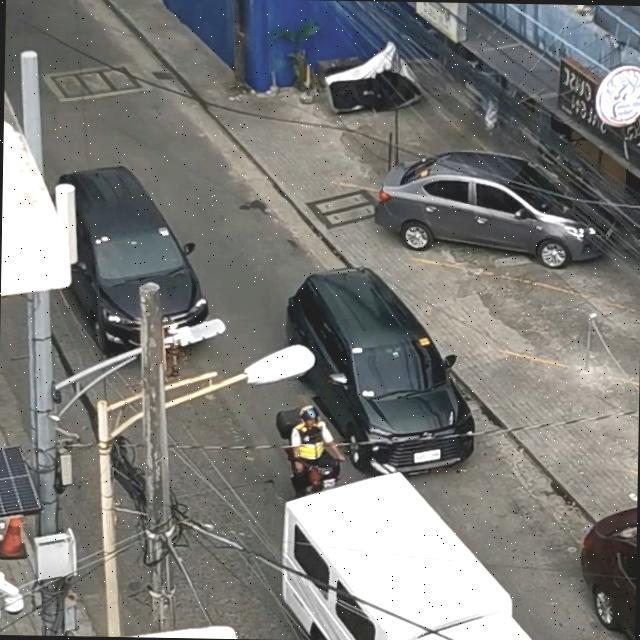Truck: (250, 453, 597, 640)
